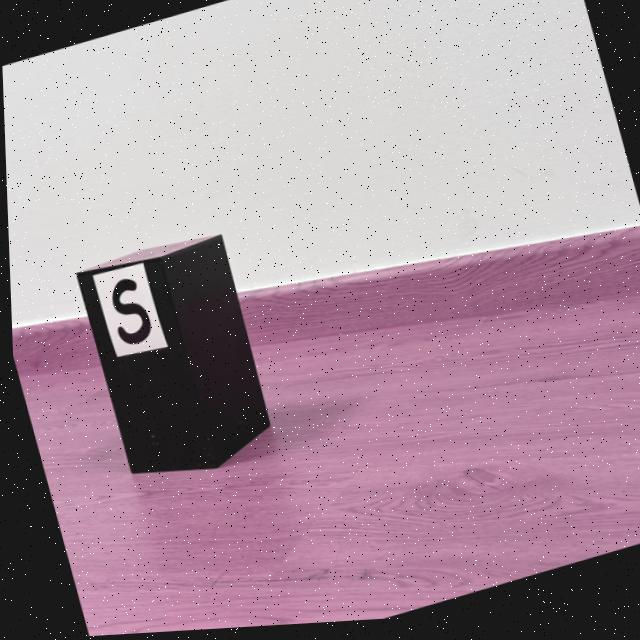S: (109, 280, 148, 346)
